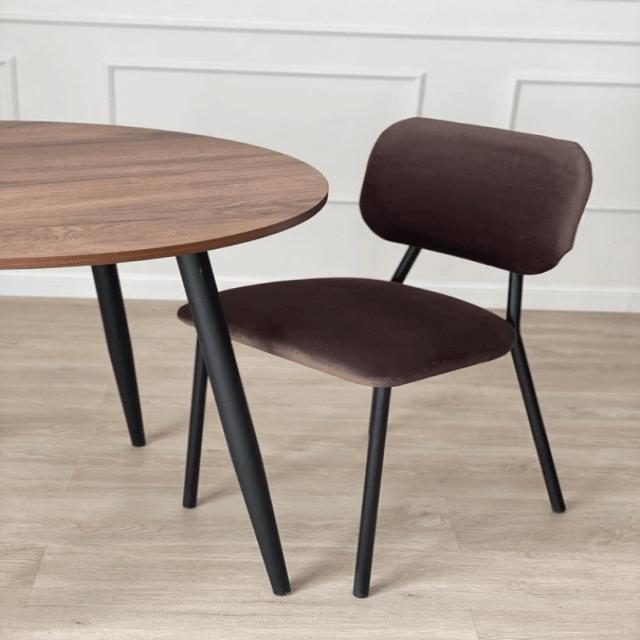chair: (176, 109, 599, 597), (172, 117, 619, 406)
